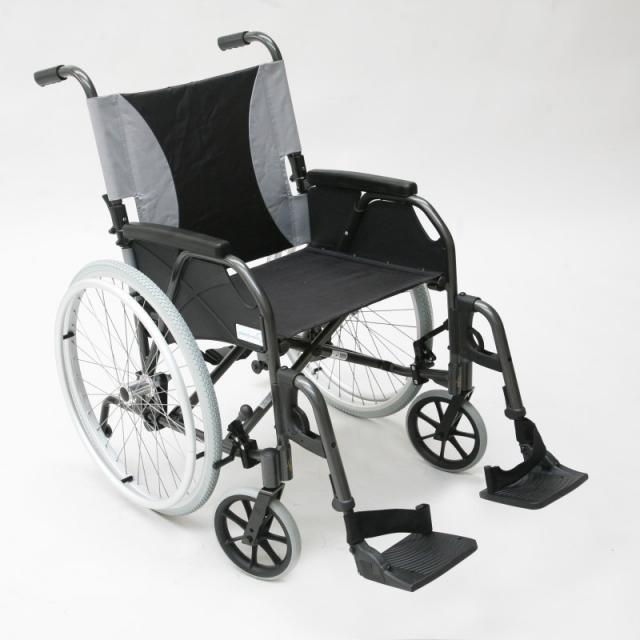wheelchair: (29, 24, 588, 603)
